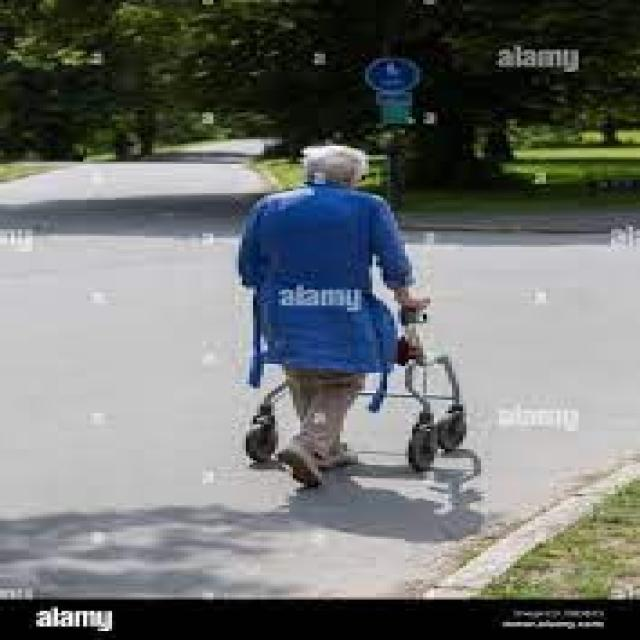idoso em pe: (212, 126, 406, 502)
